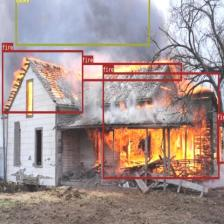fire: (102, 72, 219, 178), (2, 50, 83, 113), (82, 62, 182, 80), (216, 119, 224, 163)
smoke: (14, 0, 149, 46)
